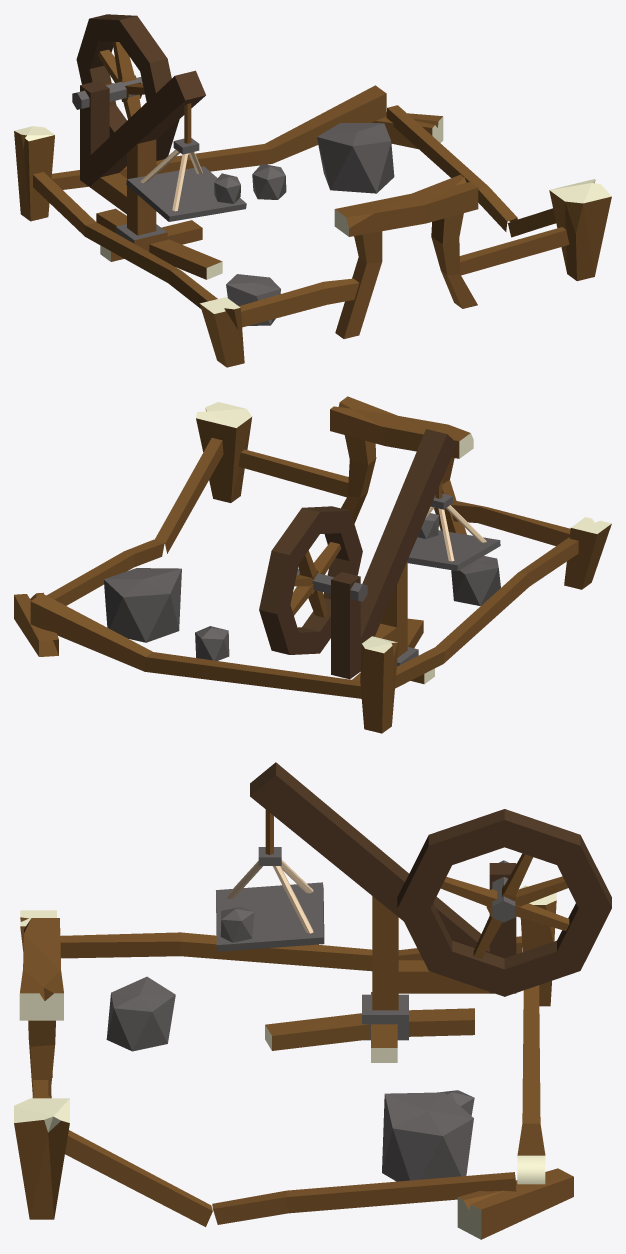
The model's file is Stone_storage_2.fbx.
3 renders of one model, top to bottom at view 1: azimuth 30°, elevation 25°; view 2: azimuth 150°, elevation 25°; view 3: azimuth 270°, elevation 25°, orthographic. The views are drawn at different scales.
Visible parts, largest first — view 1: Cube.005; view 2: Cube.005; view 3: Cube.005.
Part boxes in pixels (x1,y1,x2,y2): Cube.005: (14, 14, 611, 367); Cube.005: (14, 396, 611, 733); Cube.005: (14, 762, 611, 1239).
Size of the model in its own units: 6 by 6 by 3.
